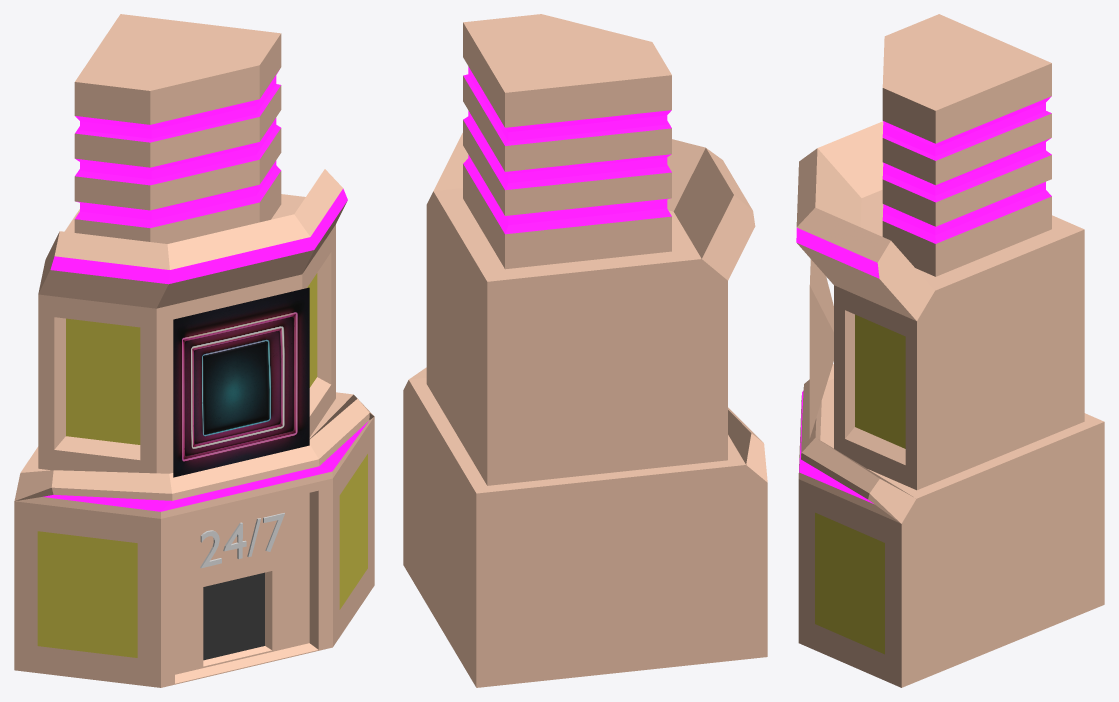
Rendered from Edificio square.fbx.
The picture shows the model from 3 angles, left to right: view 1: azimuth 30°, elevation 25°; view 2: azimuth 150°, elevation 25°; view 3: azimuth 270°, elevation 25°; orthographic projection. The views are drawn at different scales.
Visible parts, largest first — view 1: Cube; view 2: Cube; view 3: Cube.
Boxes of the visible parts, left/top/right/bottom form: Cube: left=14, top=14, right=374, bottom=687; Cube: left=403, top=14, right=767, bottom=687; Cube: left=796, top=14, right=1104, bottom=687.
Bounding box in the file's own units: 7.36 × 5.67 × 10.99.
